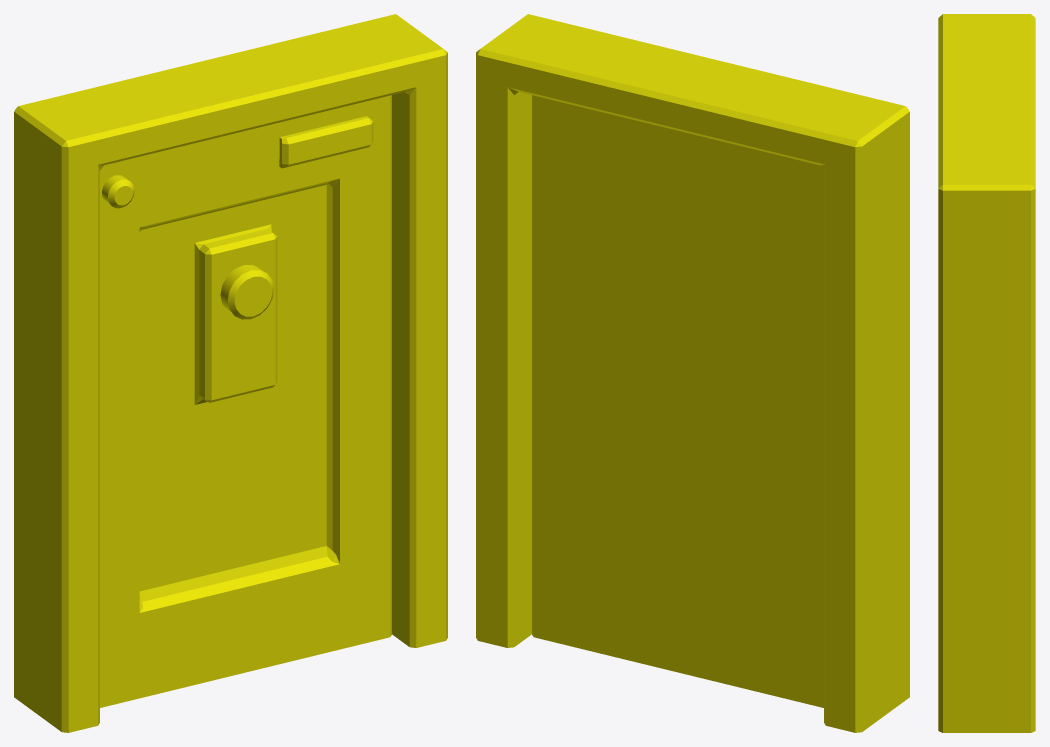
Rendered from obj_SmartDoor.glb.
The picture shows the model from 3 angles, left to right: view 1: azimuth 30°, elevation 25°; view 2: azimuth 150°, elevation 25°; view 3: azimuth 270°, elevation 25°; orthographic projection. The views are drawn at different scales.
Parts seen in each view (by area): view 1: obj_Smart_Door; view 2: obj_Smart_Door; view 3: obj_Smart_Door.
Part boxes in pixels (x1,y1,x2,y2): obj_Smart_Door: (14, 14, 447, 732); obj_Smart_Door: (476, 14, 909, 732); obj_Smart_Door: (938, 14, 1035, 732).
Bounding box in the file's own units: 0.9926 × 1.45 × 0.2342.
